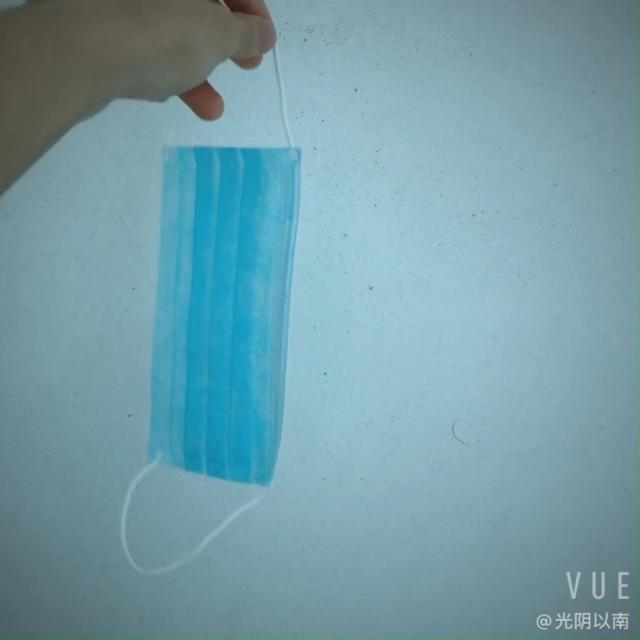face mask: (135, 129, 297, 499)
